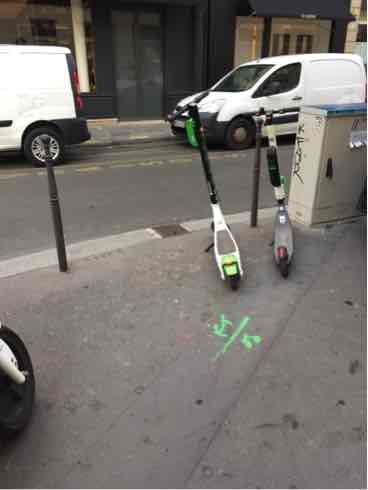scooter: (162, 95, 249, 292), (233, 101, 303, 282)
